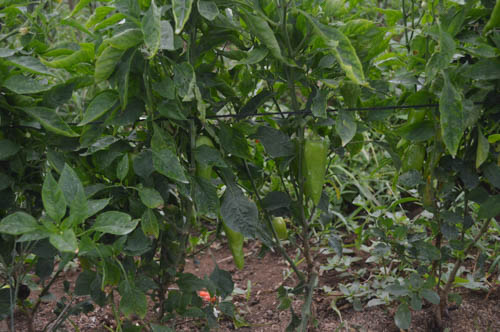ChiliPepper: (299, 139, 332, 212), (386, 101, 434, 134), (220, 210, 246, 269), (192, 138, 217, 188), (261, 209, 296, 236), (399, 143, 426, 174)
